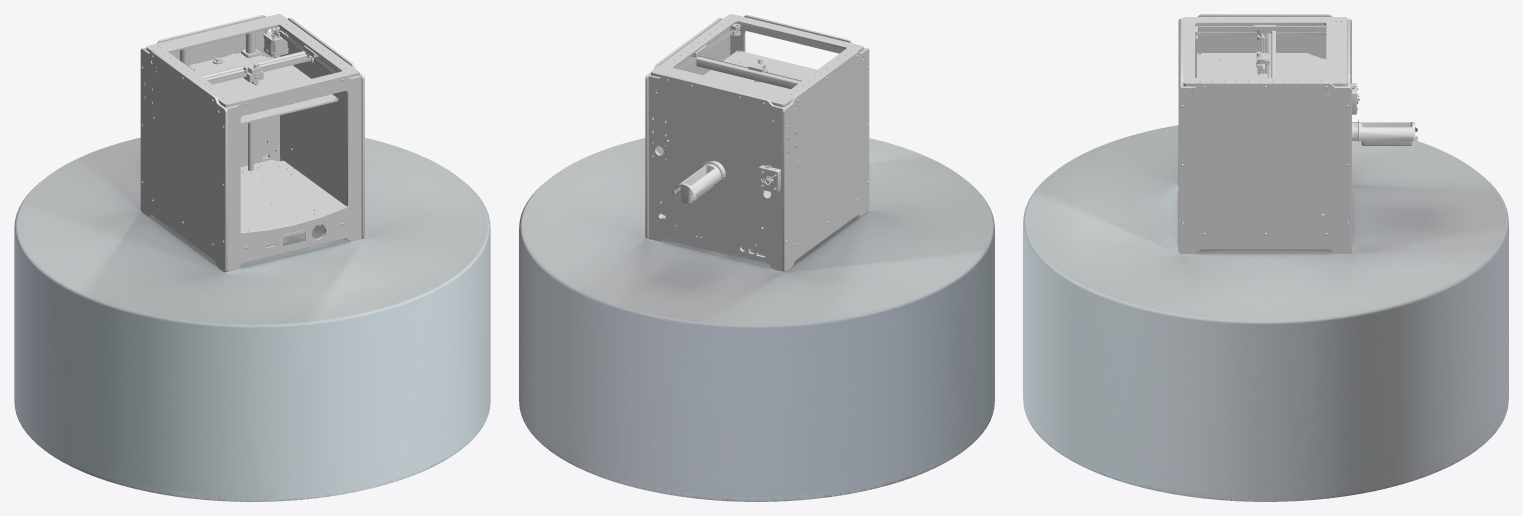
File: 3dPrinter.glb
3 renders of one model, left to right at view 1: azimuth 30°, elevation 25°; view 2: azimuth 150°, elevation 25°; view 3: azimuth 270°, elevation 25°, orthographic. The views are drawn at different scales.
Parts seen in each view (by area): view 1: Plane.001, UM2_Hbot_asm_2; view 2: Plane.001, UM2_Hbot_asm_2; view 3: Plane.001, UM2_Hbot_asm_2.
Boxes of the visible parts, x1,y1,x2,y2 form: Plane.001: (14, 137, 490, 501); UM2_Hbot_asm_2: (140, 14, 364, 272); Plane.001: (519, 138, 994, 501); UM2_Hbot_asm_2: (645, 14, 869, 271); Plane.001: (1023, 125, 1508, 501); UM2_Hbot_asm_2: (1178, 14, 1417, 253).
Bounding box in the file's own units: 2 × 1.59 × 2.
Materials: 1 (1 with a texture image).
